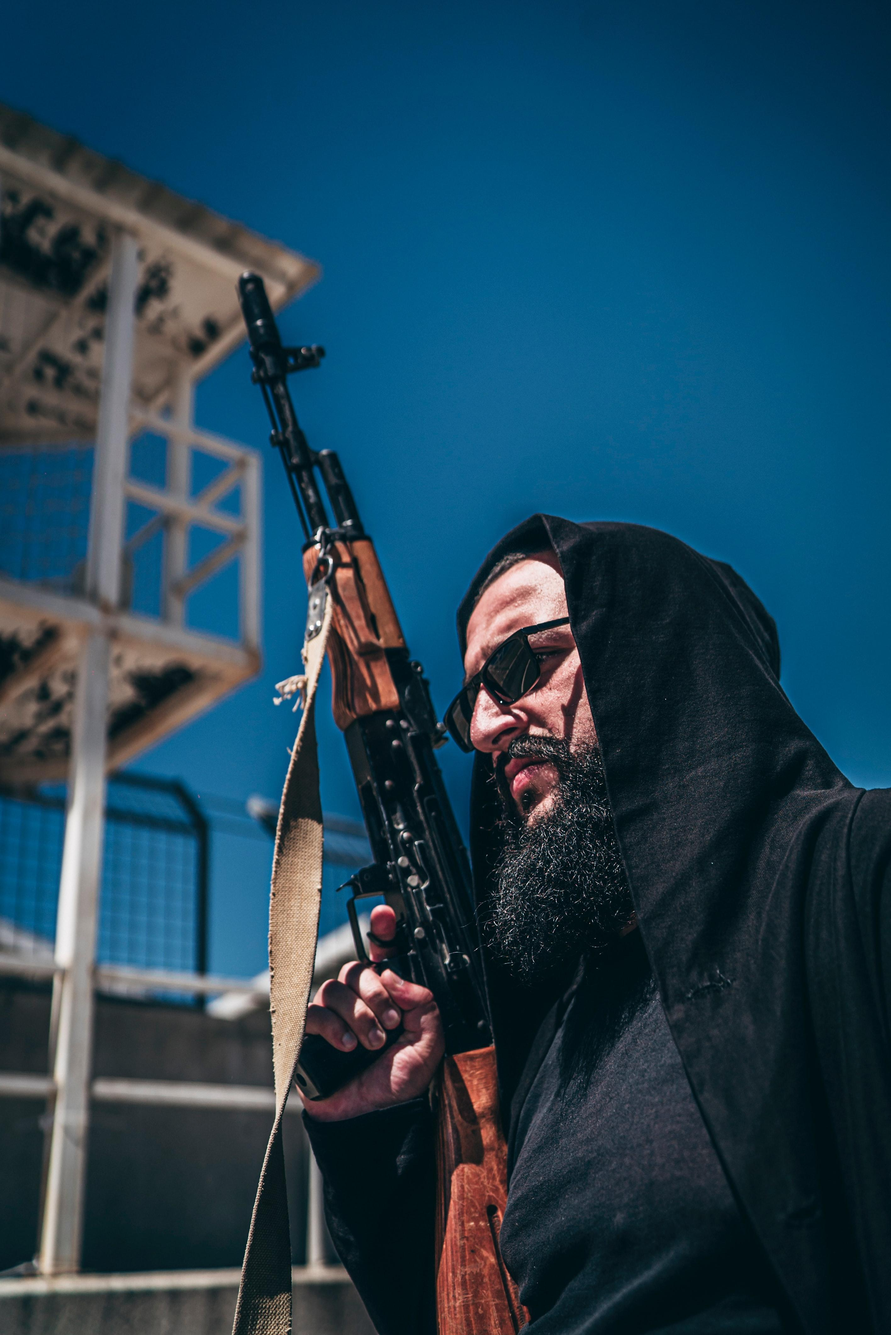larga: (234, 268, 540, 1335)
